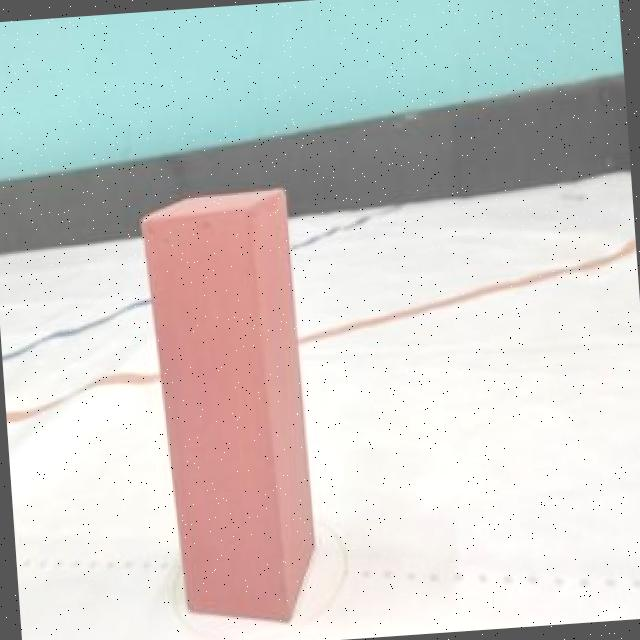redbox: (156, 188, 316, 626)
